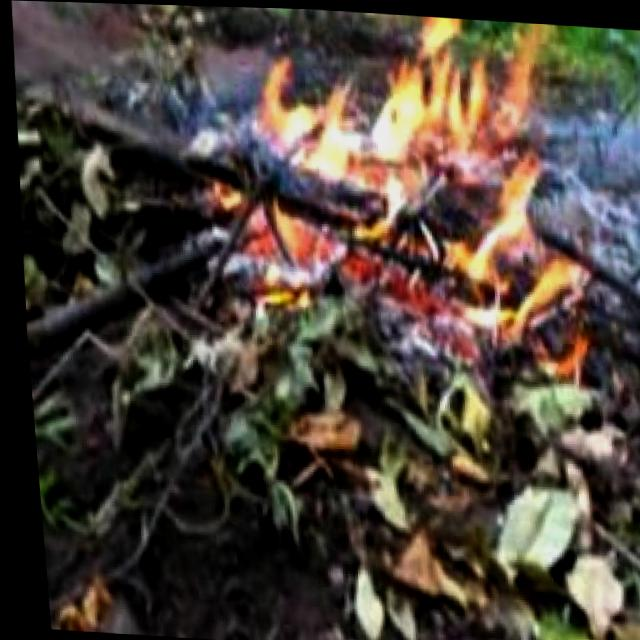Fire: (209, 5, 583, 334)
